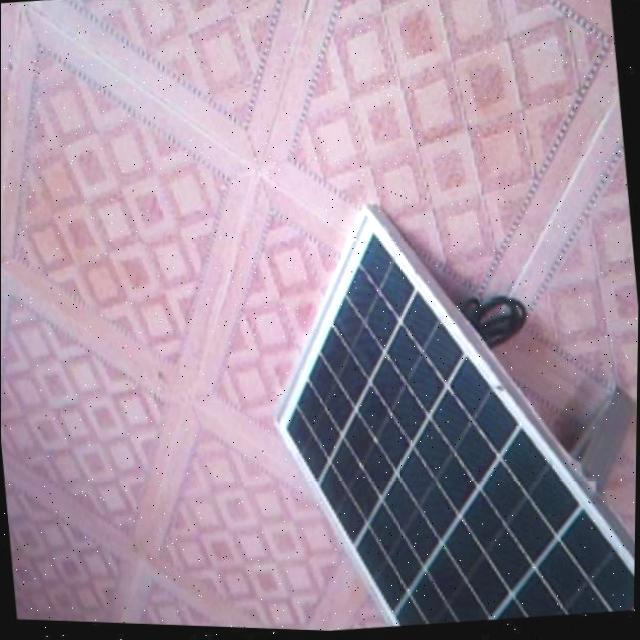Normal Solar Panel: (256, 177, 640, 640)
